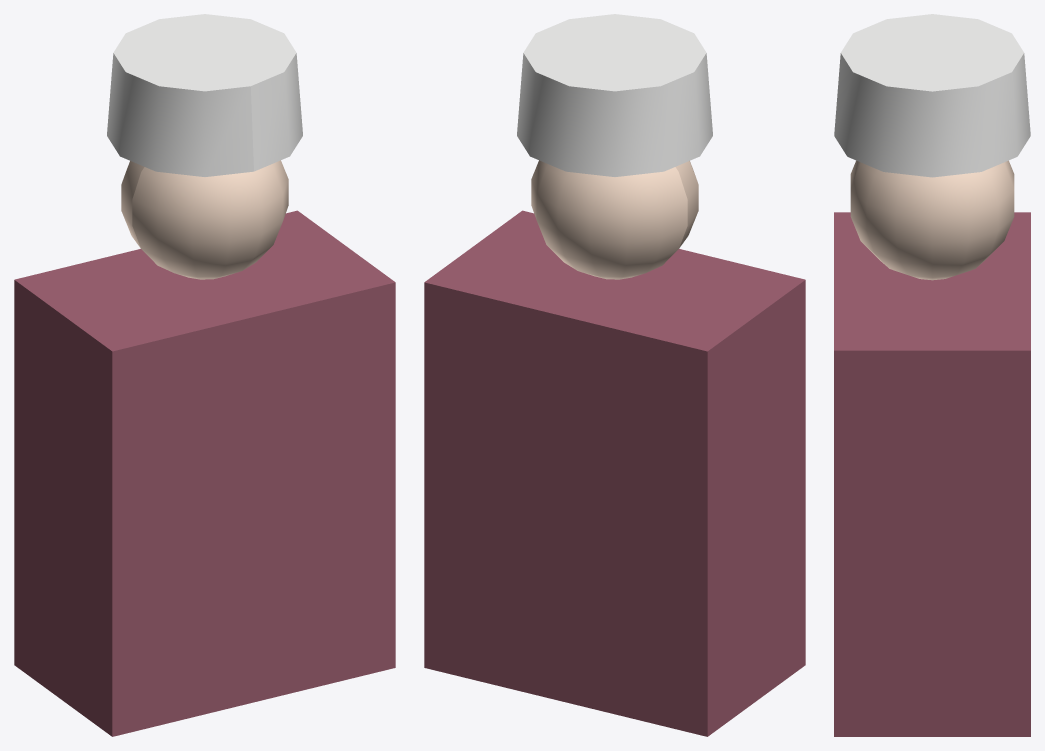
The model's file is chef.glb.
The picture shows the model from 3 angles, left to right: view 1: azimuth 30°, elevation 25°; view 2: azimuth 150°, elevation 25°; view 3: azimuth 270°, elevation 25°; orthographic projection.
Visible parts, largest first — view 1: shirt, cf4f4f2_0.75_0, ce8b796_0.75_0; view 2: shirt, cf4f4f2_0.75_0, ce8b796_0.75_0; view 3: shirt, cf4f4f2_0.75_0, ce8b796_0.75_0.
Boxes of the visible parts, bbox=[...] form: shirt: bbox=[14, 210, 395, 736]; cf4f4f2_0.75_0: bbox=[107, 14, 302, 176]; ce8b796_0.75_0: bbox=[121, 160, 288, 279]; shirt: bbox=[424, 210, 805, 736]; cf4f4f2_0.75_0: bbox=[517, 14, 712, 176]; ce8b796_0.75_0: bbox=[531, 160, 698, 279]; shirt: bbox=[834, 212, 1030, 736]; cf4f4f2_0.75_0: bbox=[834, 14, 1030, 177]; ce8b796_0.75_0: bbox=[850, 160, 1014, 280].
Bounding box in the file's own units: 0.5 × 1.03 × 0.3.
